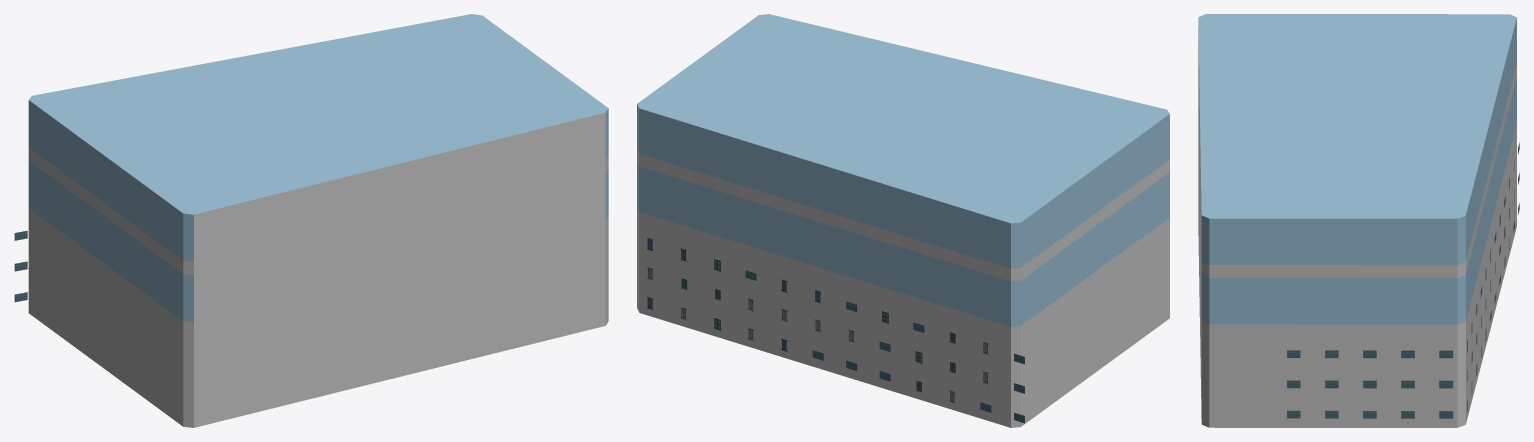
Rendered from 111StationFix03.fbx.
3 views of the same model, side by side, from view 1: azimuth 30°, elevation 25°; view 2: azimuth 150°, elevation 25°; view 3: azimuth 270°, elevation 25° (orthographic). The views are drawn at different scales.
Visible parts, largest first — view 1: Cube.427; view 2: Cube.427; view 3: Cube.427.
Boxes of the visible parts, x1,y1,x2,y2 form: Cube.427: [14, 14, 608, 427]; Cube.427: [637, 14, 1169, 427]; Cube.427: [1198, 14, 1519, 427].
Size of the model in its own units: 37.13 by 17.34 by 24.13.
